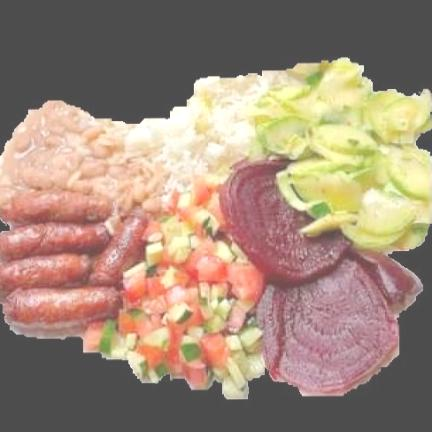beans: (0, 102, 161, 215)
beet: (225, 157, 418, 399)
green_vegetables: (262, 60, 432, 249)
rice: (119, 72, 278, 198)
sausage: (0, 192, 143, 334)
tomato: (83, 181, 262, 393)
